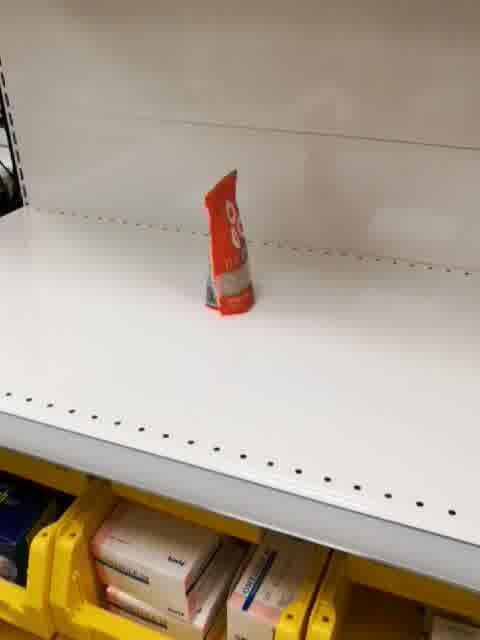whitechia: (201, 166, 258, 319)
